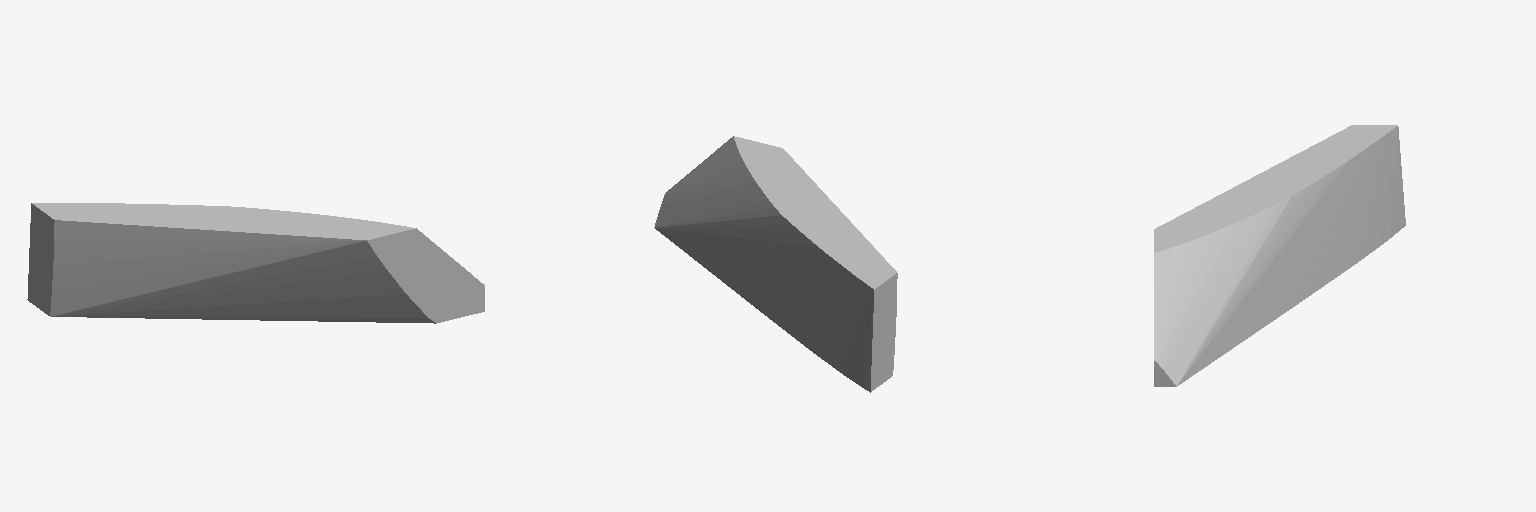
File: phantom-elastrat_collision_608.obj
The picture shows the model from 3 angles: view 1: azimuth 30°, elevation 25°; view 2: azimuth 150°, elevation 25°; view 3: azimuth 270°, elevation 25°; orthographic projection.
Size of the model in its own units: 0.0154 by 0.0045 by 0.0102.